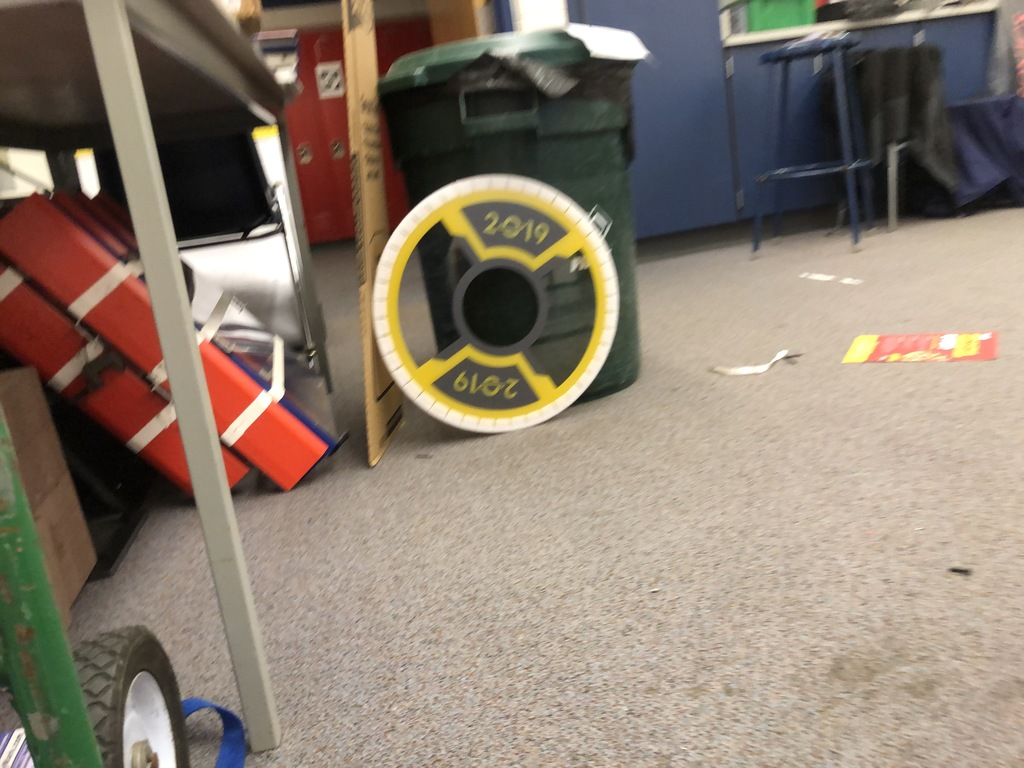hatch_panel: (356, 168, 632, 448)
